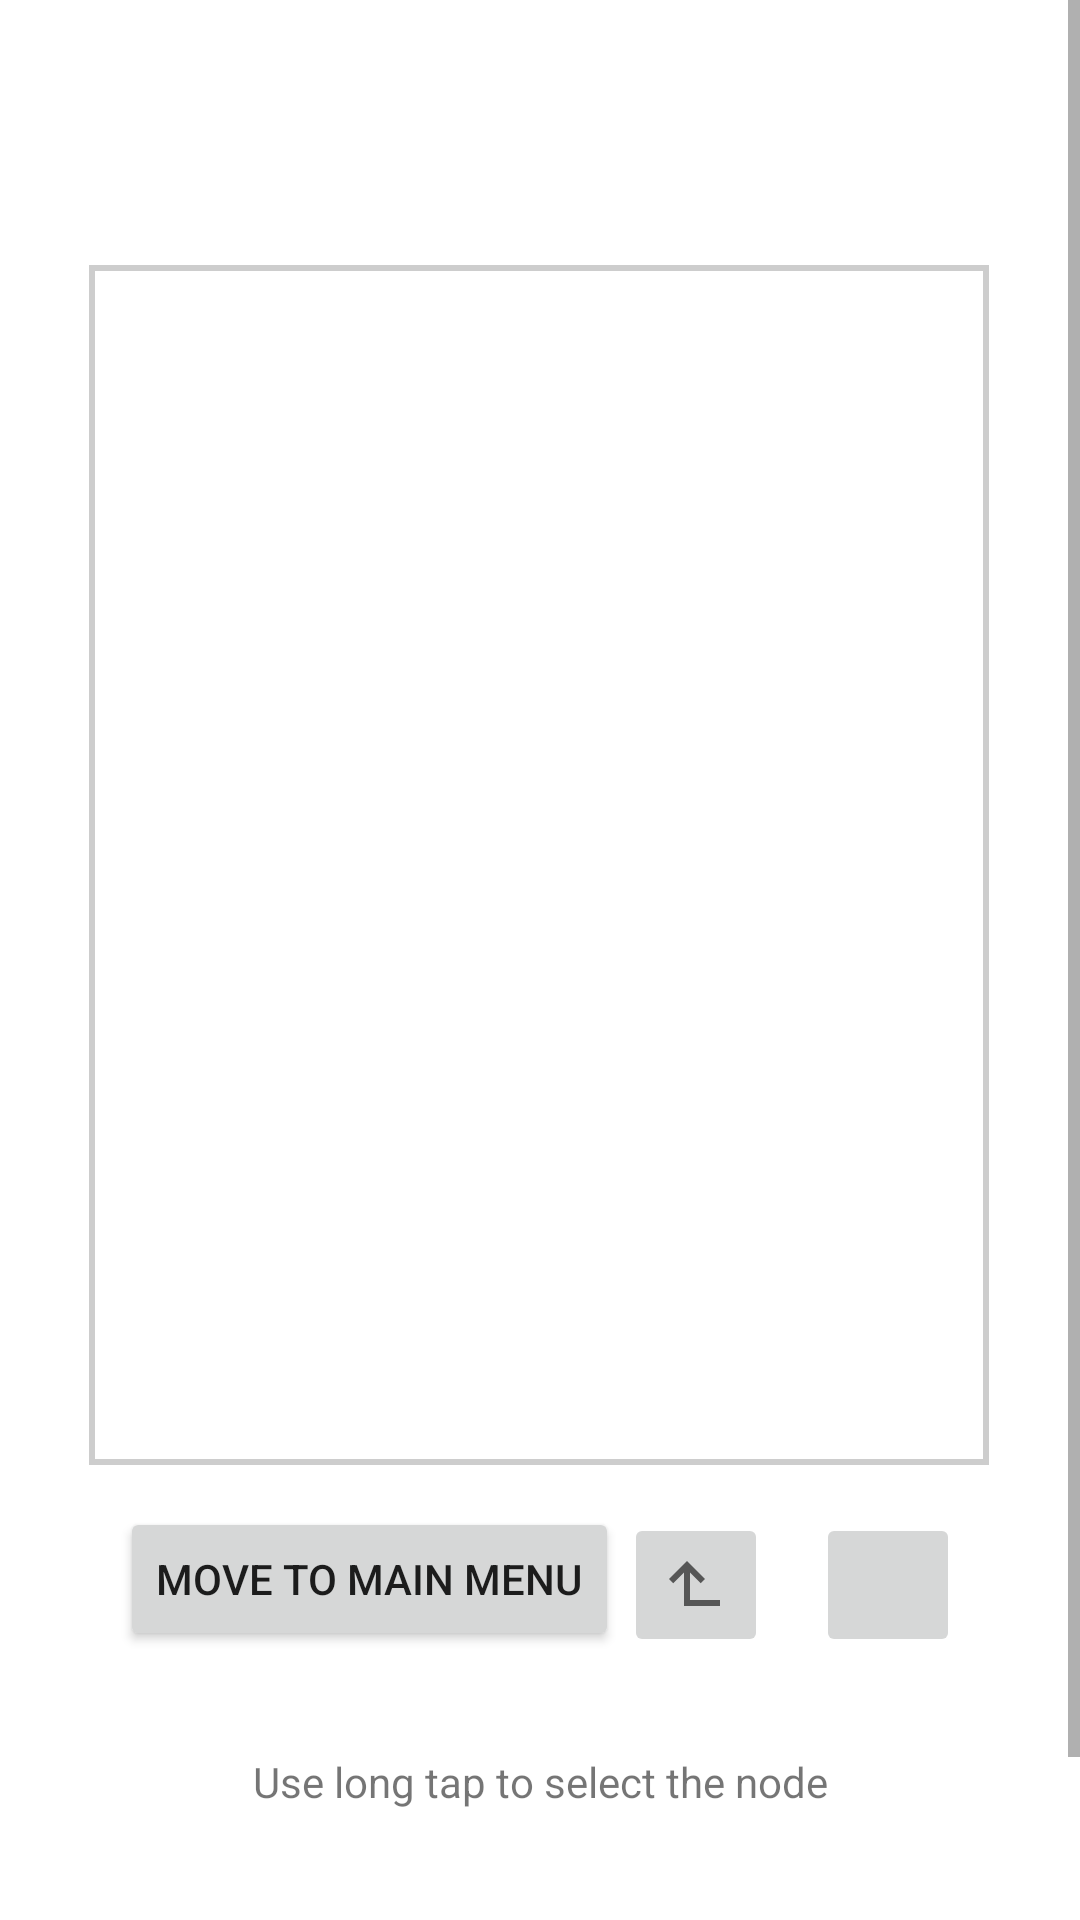

Point at icon controls on the screen. Image size 1080 x 1920, points as [x,y].
arrow node up: [696,1585]
